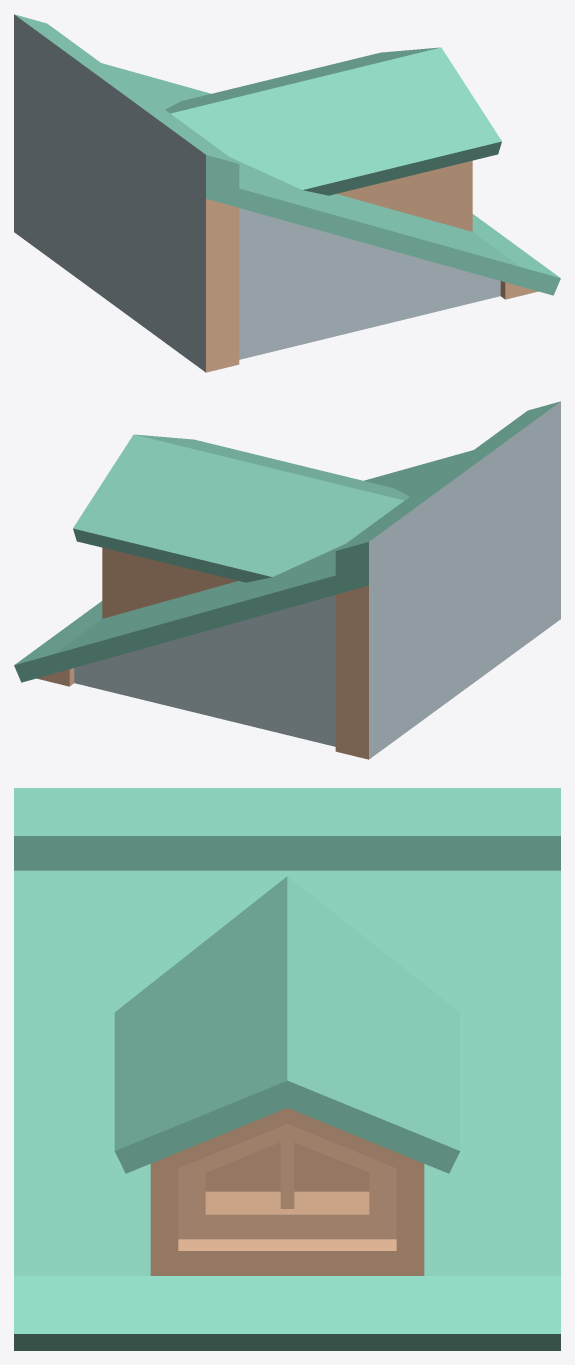
The model's file is roofWindow.glb.
3 views of the same model, one above another, from view 1: azimuth 30°, elevation 25°; view 2: azimuth 150°, elevation 25°; view 3: azimuth 270°, elevation 25° (orthographic). The views are drawn at different scales.
Parts seen in each view (by area): view 1: roofWindow; view 2: roofWindow; view 3: roofWindow.
Part boxes in pixels (left/top/right/bottom): roofWindow: left=14, top=14, right=560, bottom=372; roofWindow: left=14, top=401, right=560, bottom=759; roofWindow: left=14, top=788, right=560, bottom=1350.
Bounding box in the file's own units: 1.07 × 0.6483 × 1.
